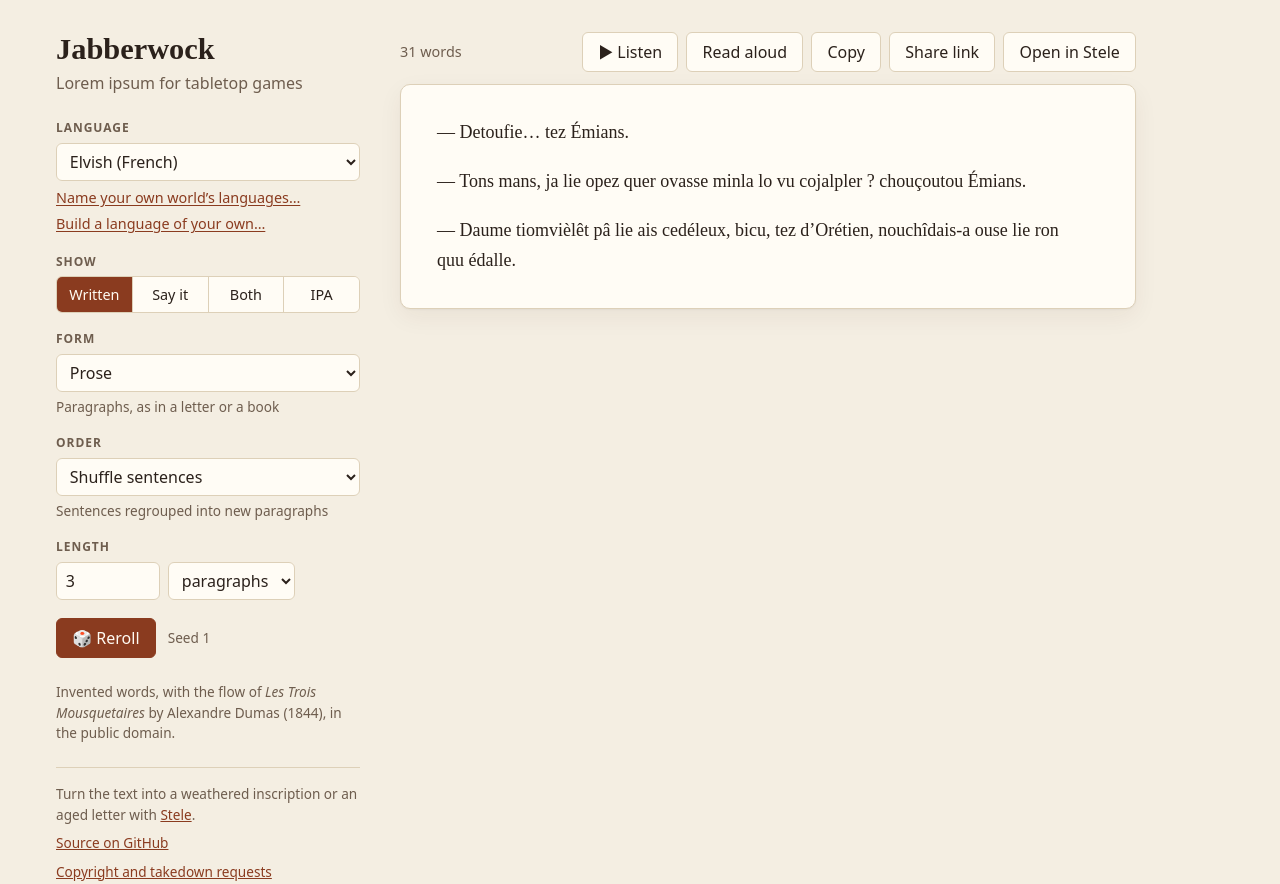
App › counts in words, keeping a separate count for each unit
Select "words" in the dropdown named "Count in": (231, 581) x1=168 y1=562 x2=295 y2=600
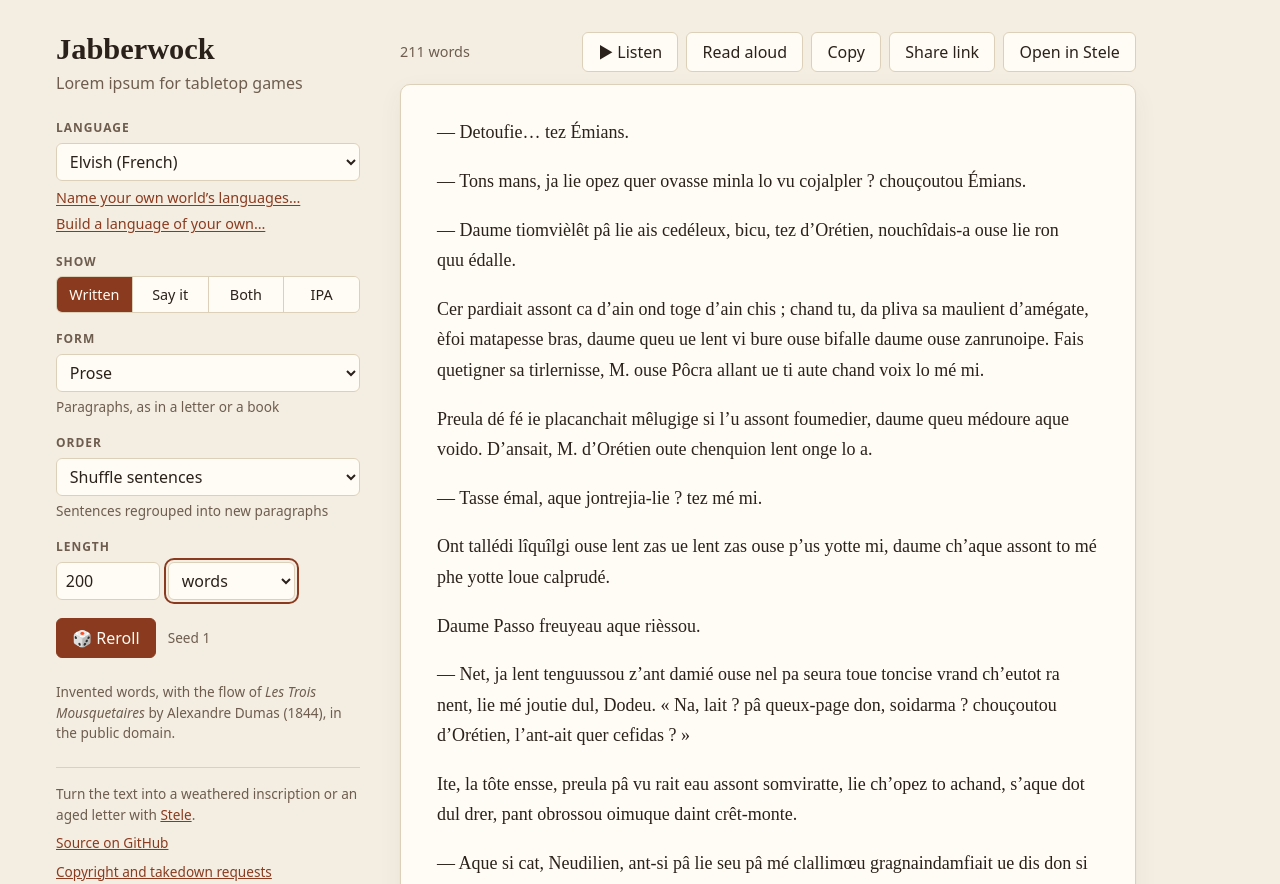
Expected: the number field named "Number of words" holds "200", x1=56 y1=562 x2=160 y2=600
Select "paragraphs" in the dropdown named "Count in": (231, 581) x1=168 y1=562 x2=295 y2=600
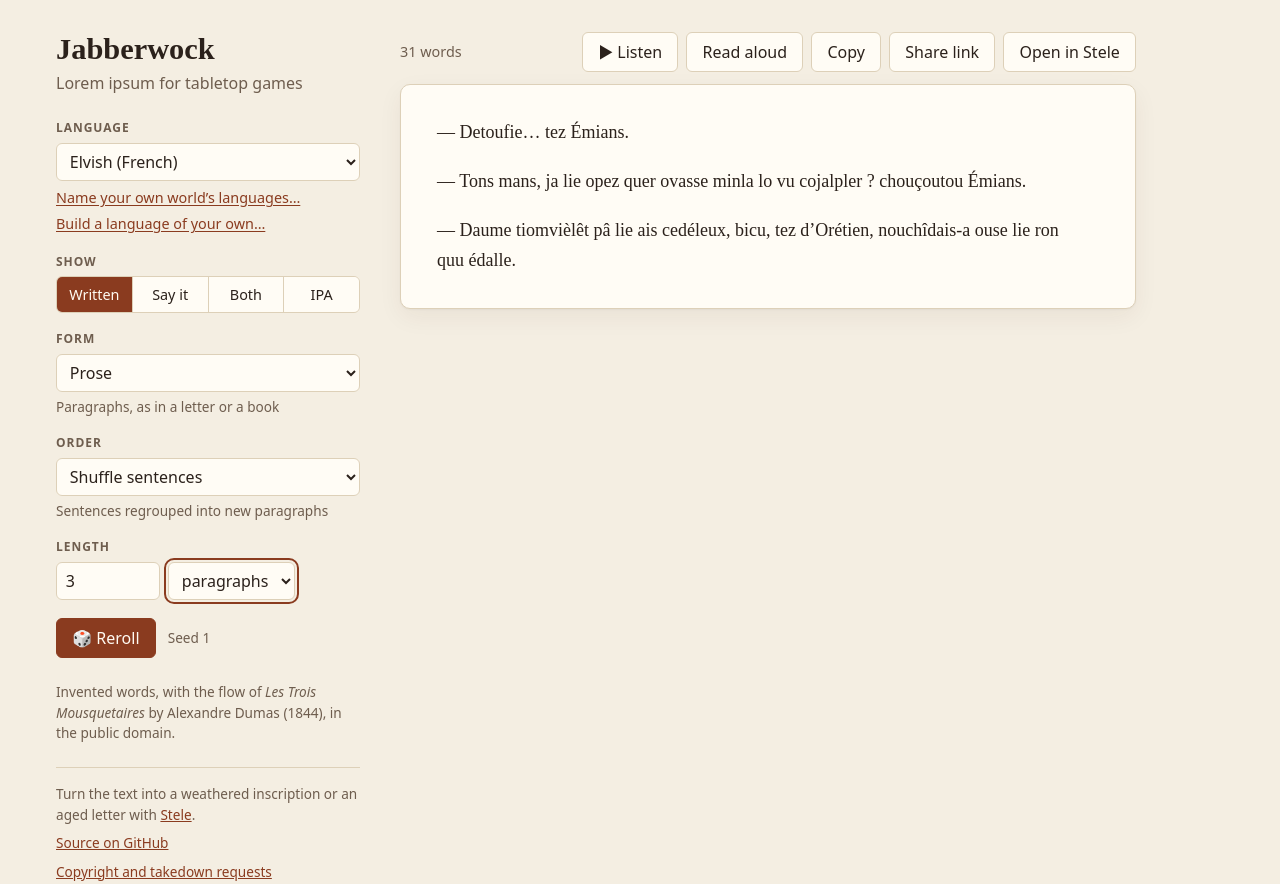
Expected: the number field named "Number of paragraphs" holds "3", x1=56 y1=562 x2=160 y2=600
